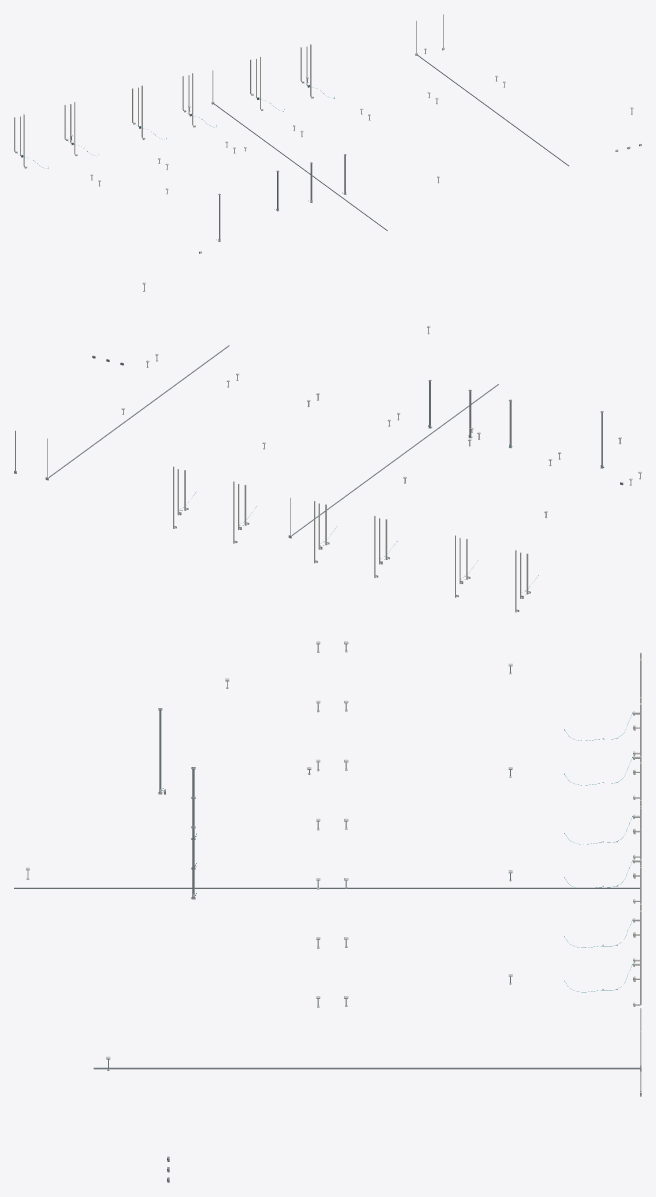
File: hospital-terminals.glb
3 renders of one model, top to bottom at view 1: azimuth 30°, elevation 25°; view 2: azimuth 150°, elevation 25°; view 3: azimuth 270°, elevation 25°, orthographic. The views are drawn at different scales.
Visible parts, largest first — view 1: Power__terminal-ivory, Security__terminal-metal, Data__terminal-ivory, Telecom__terminal-ivory, Data__terminal-metal; view 2: Data__terminal-ivory, Security__terminal-metal, Power__terminal-ivory, Telecom__terminal-ivory; view 3: Security__terminal-metal, Power__terminal-ivory.
Boxes of the visible parts, left/top/right/bottom form: Power__terminal-ivory: left=23, top=44, right=641, bottom=253; Security__terminal-metal: left=213, top=54, right=568, bottom=230; Data__terminal-ivory: left=14, top=47, right=346, bottom=240; Telecom__terminal-ivory: left=20, top=46, right=498, bottom=180; Data__terminal-metal: left=33, top=93, right=346, bottom=241; Data__terminal-ivory: left=184, top=381, right=603, bottom=594; Security__terminal-metal: left=15, top=345, right=498, bottom=535; Power__terminal-ivory: left=173, top=466, right=519, bottom=612; Telecom__terminal-ivory: left=146, top=360, right=632, bottom=598; Security__terminal-metal: left=14, top=887, right=641, bottom=1094; Power__terminal-ivory: left=163, top=660, right=641, bottom=1181.
Size of the model in its own units: 29.73 by 3.22 by 17.96.
